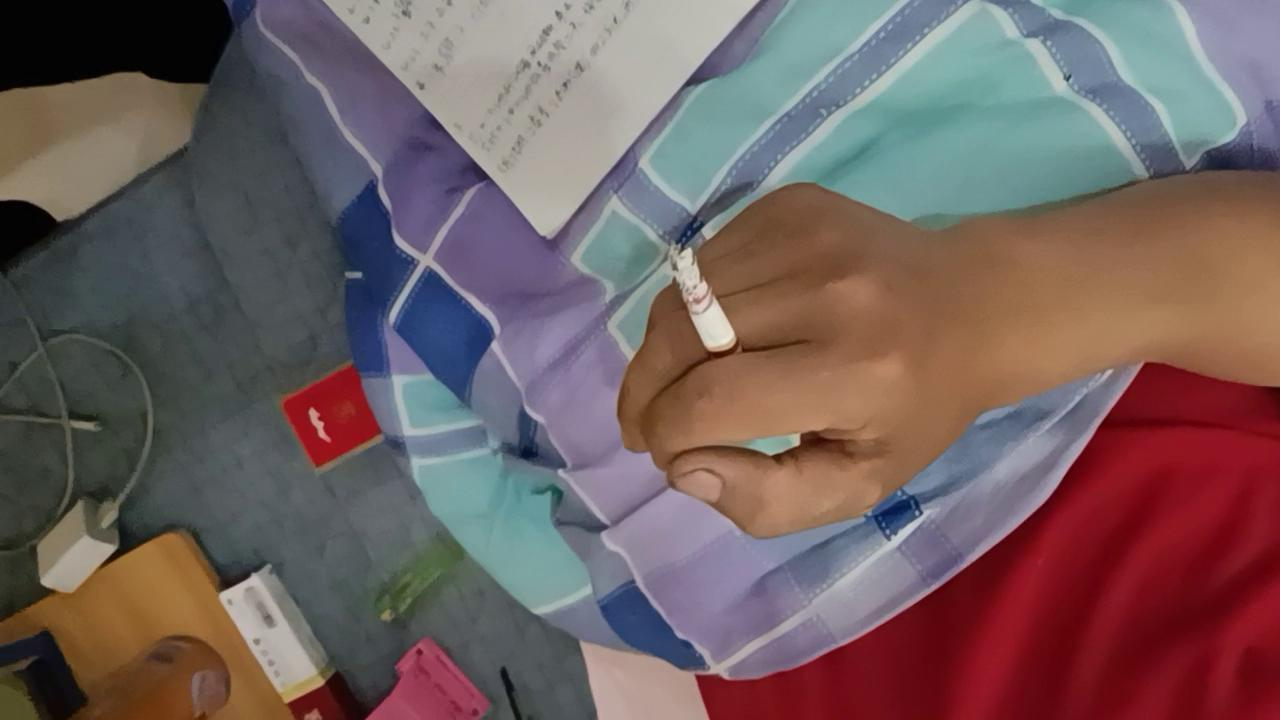smoke: (670, 244, 756, 392)
